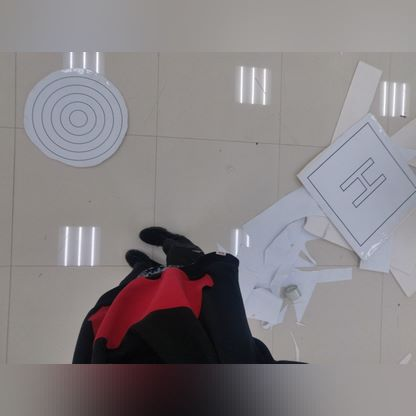H: (312, 131, 404, 235)
circle: (26, 64, 144, 169)
